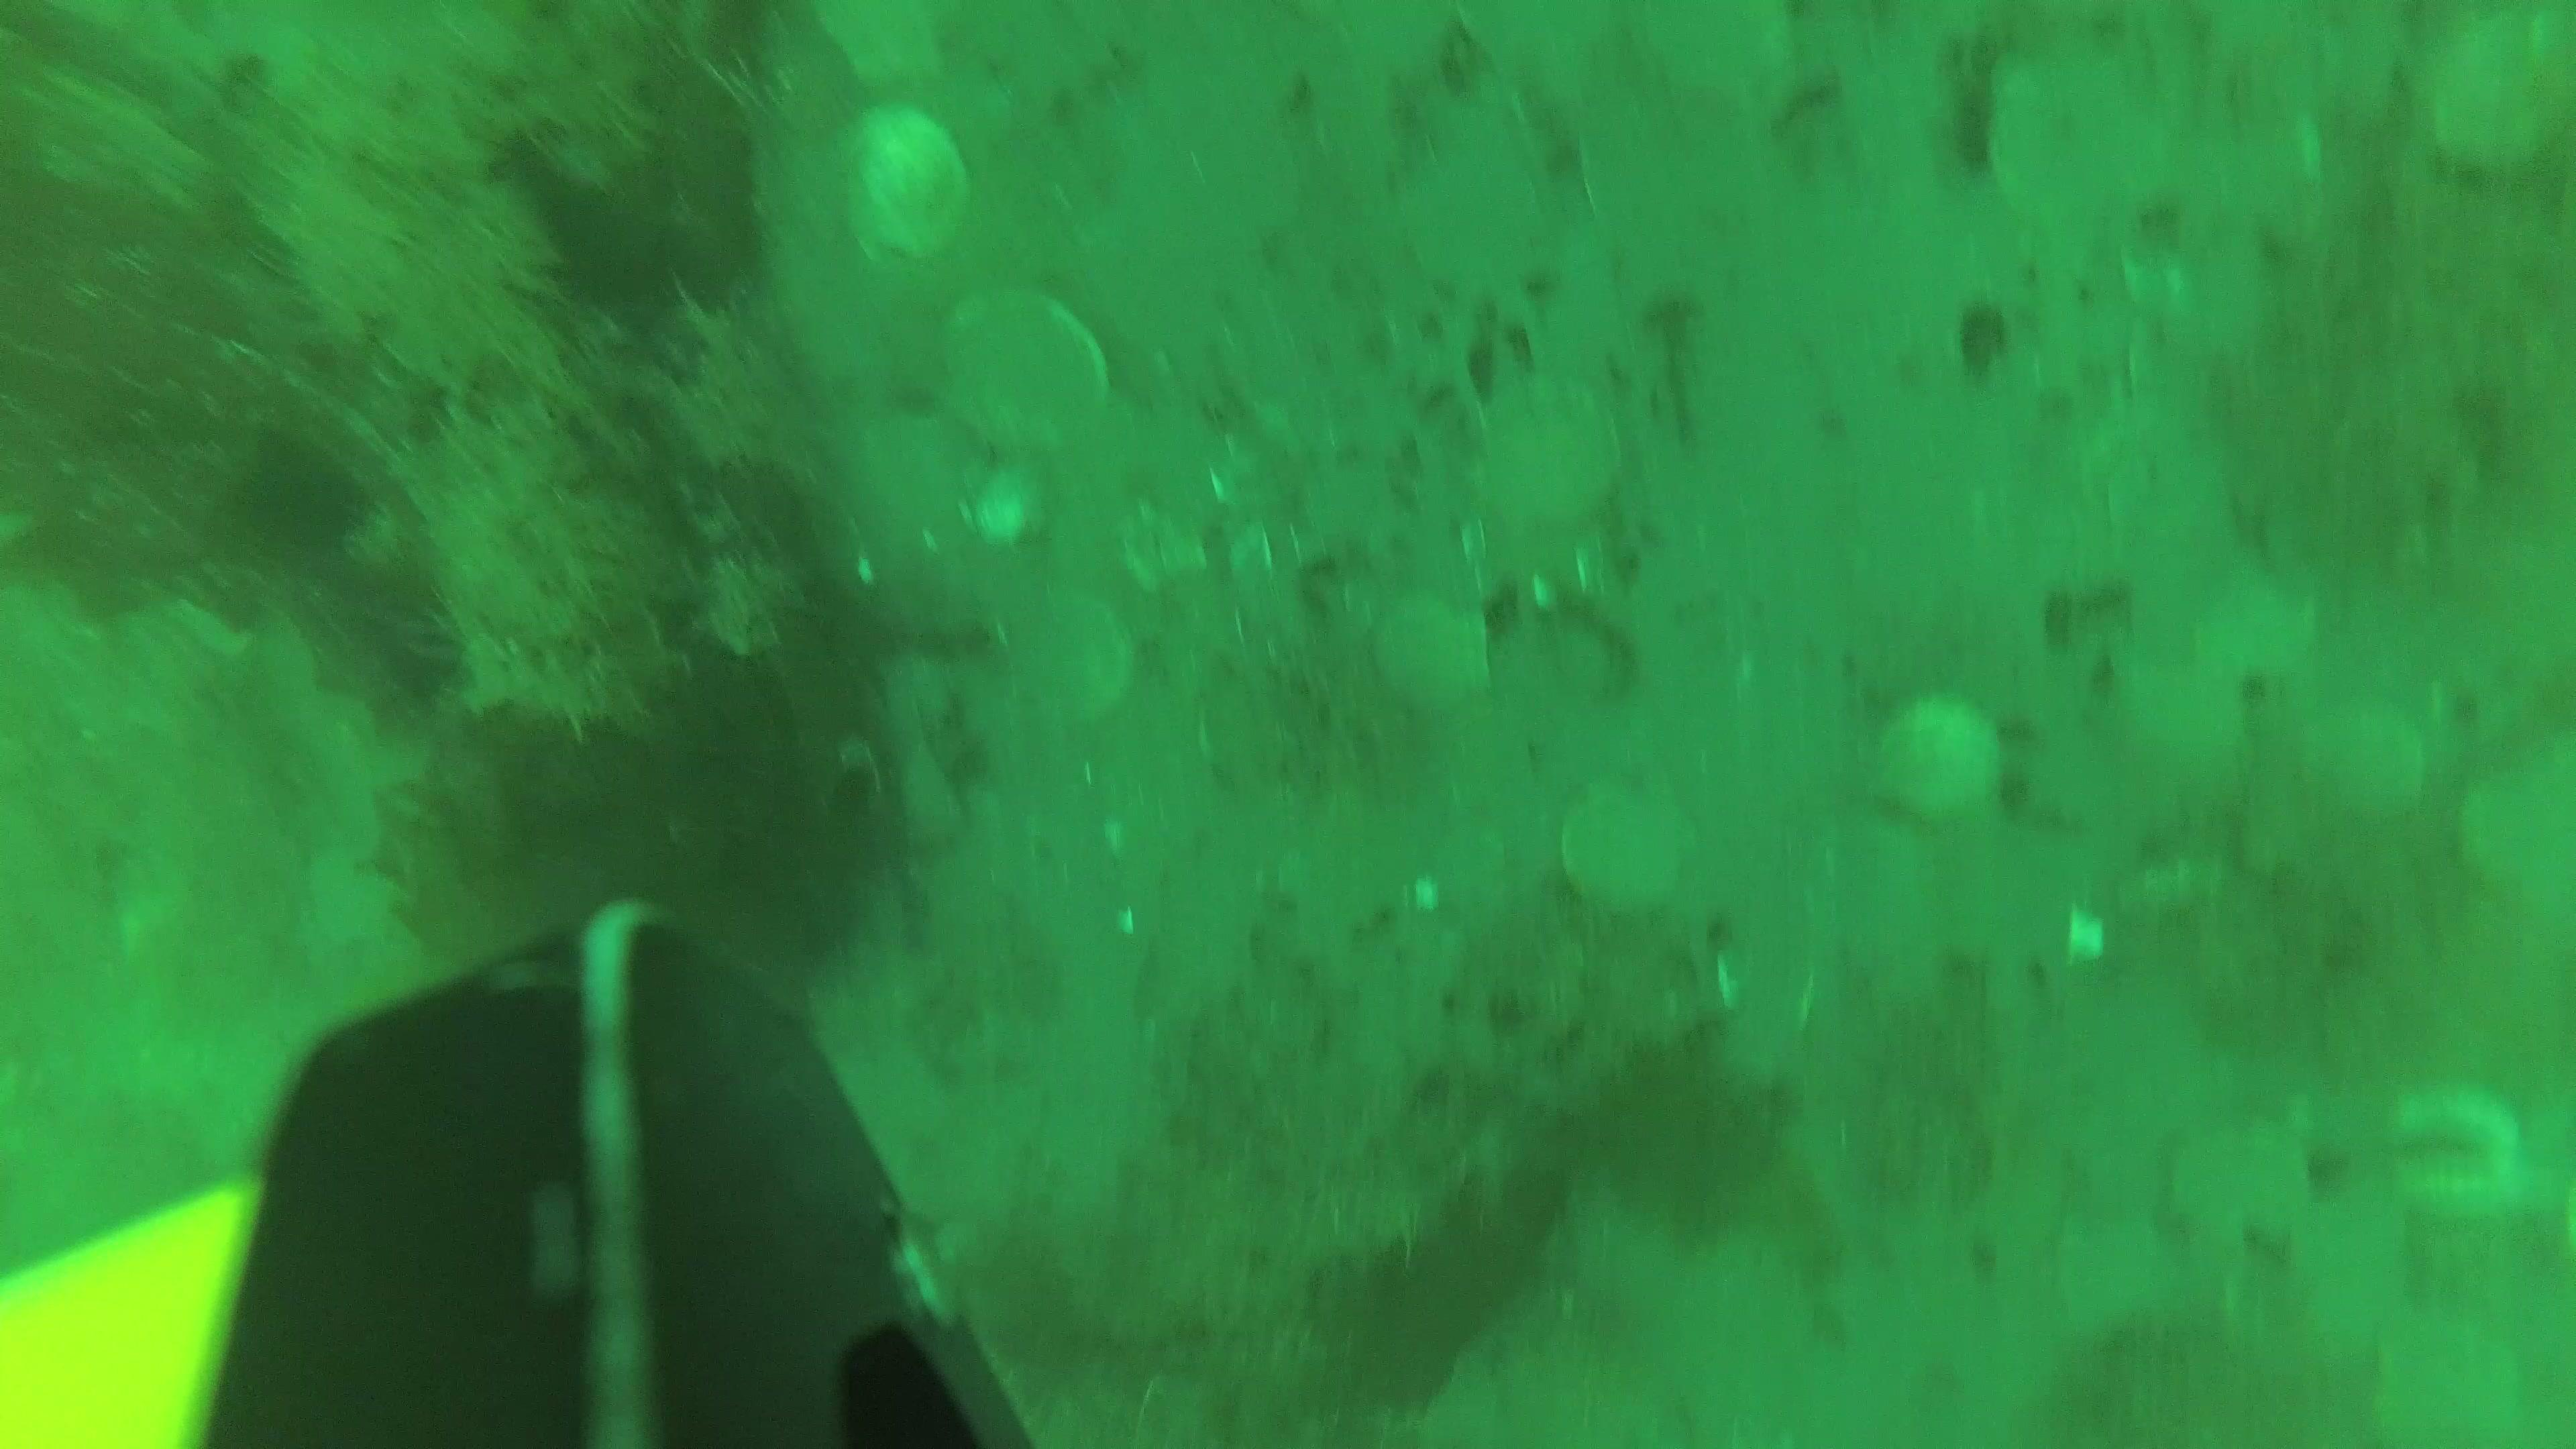scallop: (941, 294, 1108, 456), (2410, 21, 2576, 182), (1994, 57, 2158, 216), (1467, 384, 1644, 531), (833, 108, 961, 269), (996, 589, 1136, 732), (2167, 1118, 2316, 1246), (1877, 688, 2001, 826), (1376, 593, 1499, 717), (1559, 791, 1690, 906), (2302, 699, 2424, 821), (2201, 593, 2325, 697)
